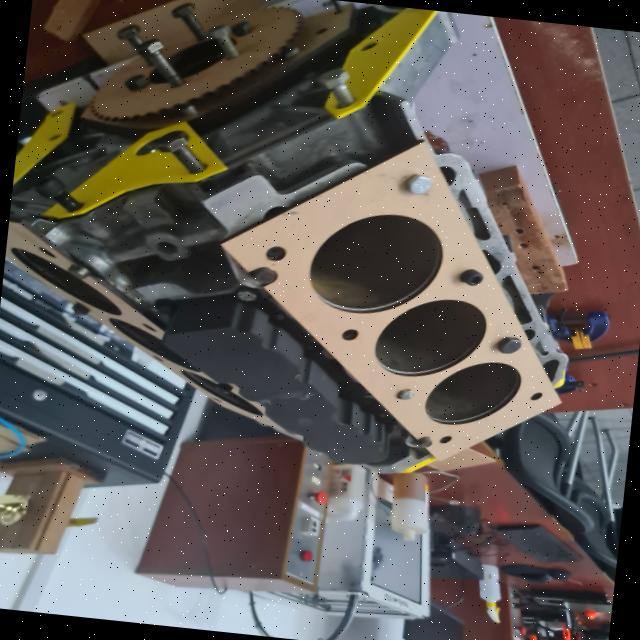tor_v1: (222, 142, 561, 461), (5, 221, 303, 441)
